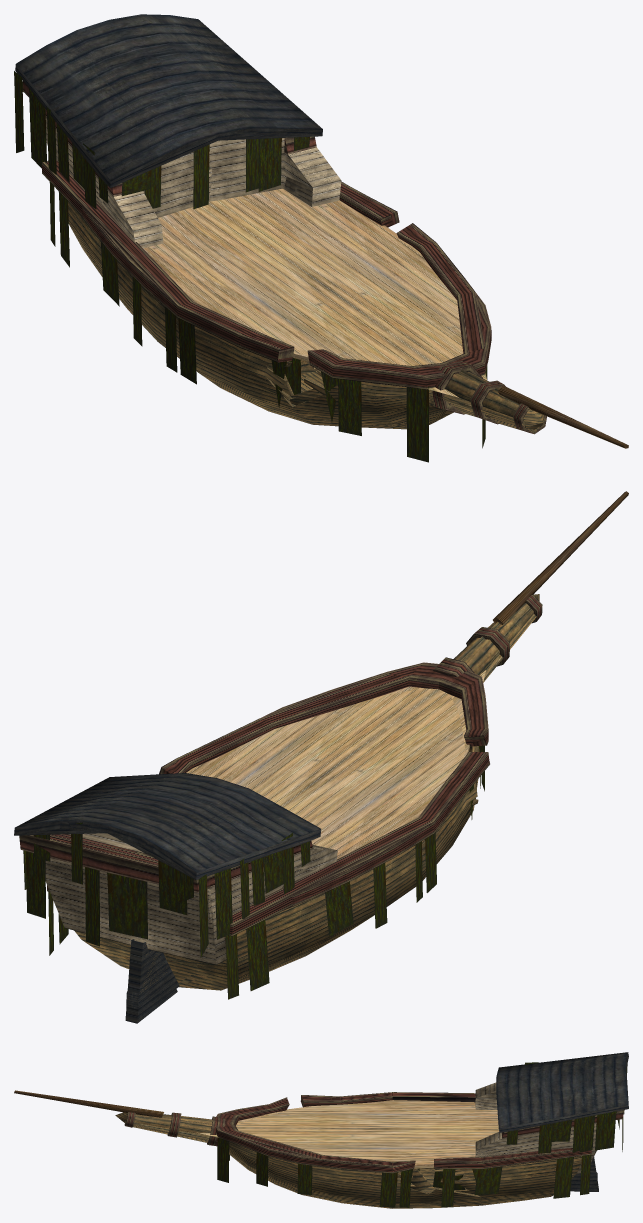
The model's file is pir_m_shp_skl_sloop.fbx.
The picture shows the model from 3 angles, top to bottom: view 1: azimuth 30°, elevation 25°; view 2: azimuth 150°, elevation 25°; view 3: azimuth 270°, elevation 25°; orthographic projection. The views are drawn at different scales.
Parts seen in each view (by area): view 1: deck_1.002, bottom_hull_6, hullA_2_3, polyMergeVert2, indestructible_High_stripeA_4.002, ram, indestructible_High_stripeA_4, indestructible_High_stripeA_1.002, seaweed_1, seaweed_36, cabin.002, indestructible_High_stripeA_2 (+10 smaller); view 2: deck_1.002, bottom_hull_6, hullA_2_3, bottom_hull_3.001, indestructible_High_stripeA_4.002, indestructible_High_stripeA_1.002, ram, rudder.002, indestructible_High_stripeA_4, polyMergeVert2, seaweed_20, indestructible_High_stripeA_7 (+13 smaller); view 3: deck_1.002, bottom_hull_6, hullA_2_3, ram, indestructible_High_stripeA_4.002, polyMergeVert2, indestructible_High_stripeA_1.002, indestructible_High_stripeA_3, indestructible_High_stripeA_1, indestructible_High_stripeA_4, indestructible_High_stripeA_2, seaweed_35 (+20 smaller).
Part boxes in pixels (x1,y1,x2,y2): deck_1.002: (143, 188, 487, 397); bottom_hull_6: (15, 14, 322, 187); hullA_2_3: (68, 201, 453, 429); polyMergeVert2: (45, 117, 341, 248); indestructible_High_stripeA_4.002: (42, 160, 444, 386); ram: (432, 361, 628, 448); indestructible_High_stripeA_4: (239, 335, 445, 389); indestructible_High_stripeA_1.002: (339, 195, 485, 364); seaweed_1: (406, 386, 429, 462); seaweed_36: (338, 379, 361, 435); cabin.002: (110, 129, 322, 187); indestructible_High_stripeA_2: (340, 187, 465, 278); deck_1.002: (186, 670, 486, 859); bottom_hull_6: (14, 773, 321, 879); hullA_2_3: (74, 746, 479, 990); bottom_hull_3.001: (45, 858, 317, 964); indestructible_High_stripeA_4.002: (228, 675, 489, 936); indestructible_High_stripeA_1.002: (47, 671, 446, 891); ram: (433, 491, 628, 677); rudder.002: (125, 939, 179, 1023); indestructible_High_stripeA_4: (439, 670, 489, 793); polyMergeVert2: (66, 833, 337, 964); seaweed_20: (107, 872, 147, 939); indestructible_High_stripeA_7: (19, 835, 198, 892); deck_1.002: (197, 1100, 499, 1165); bottom_hull_6: (496, 1052, 628, 1132); hullA_2_3: (229, 1142, 581, 1208); ram: (14, 1090, 225, 1146); indestructible_High_stripeA_4.002: (225, 1092, 475, 1125); polyMergeVert2: (475, 1082, 596, 1173); indestructible_High_stripeA_1.002: (225, 1123, 591, 1169); indestructible_High_stripeA_3: (215, 1126, 340, 1169); indestructible_High_stripeA_1: (481, 1148, 591, 1164); indestructible_High_stripeA_4: (216, 1095, 332, 1125); indestructible_High_stripeA_2: (340, 1157, 481, 1173); seaweed_35: (595, 1111, 616, 1150).
Bounding box in the file's own units: 8276 × 6795 × 28886.
2 materials, 2 textured.
